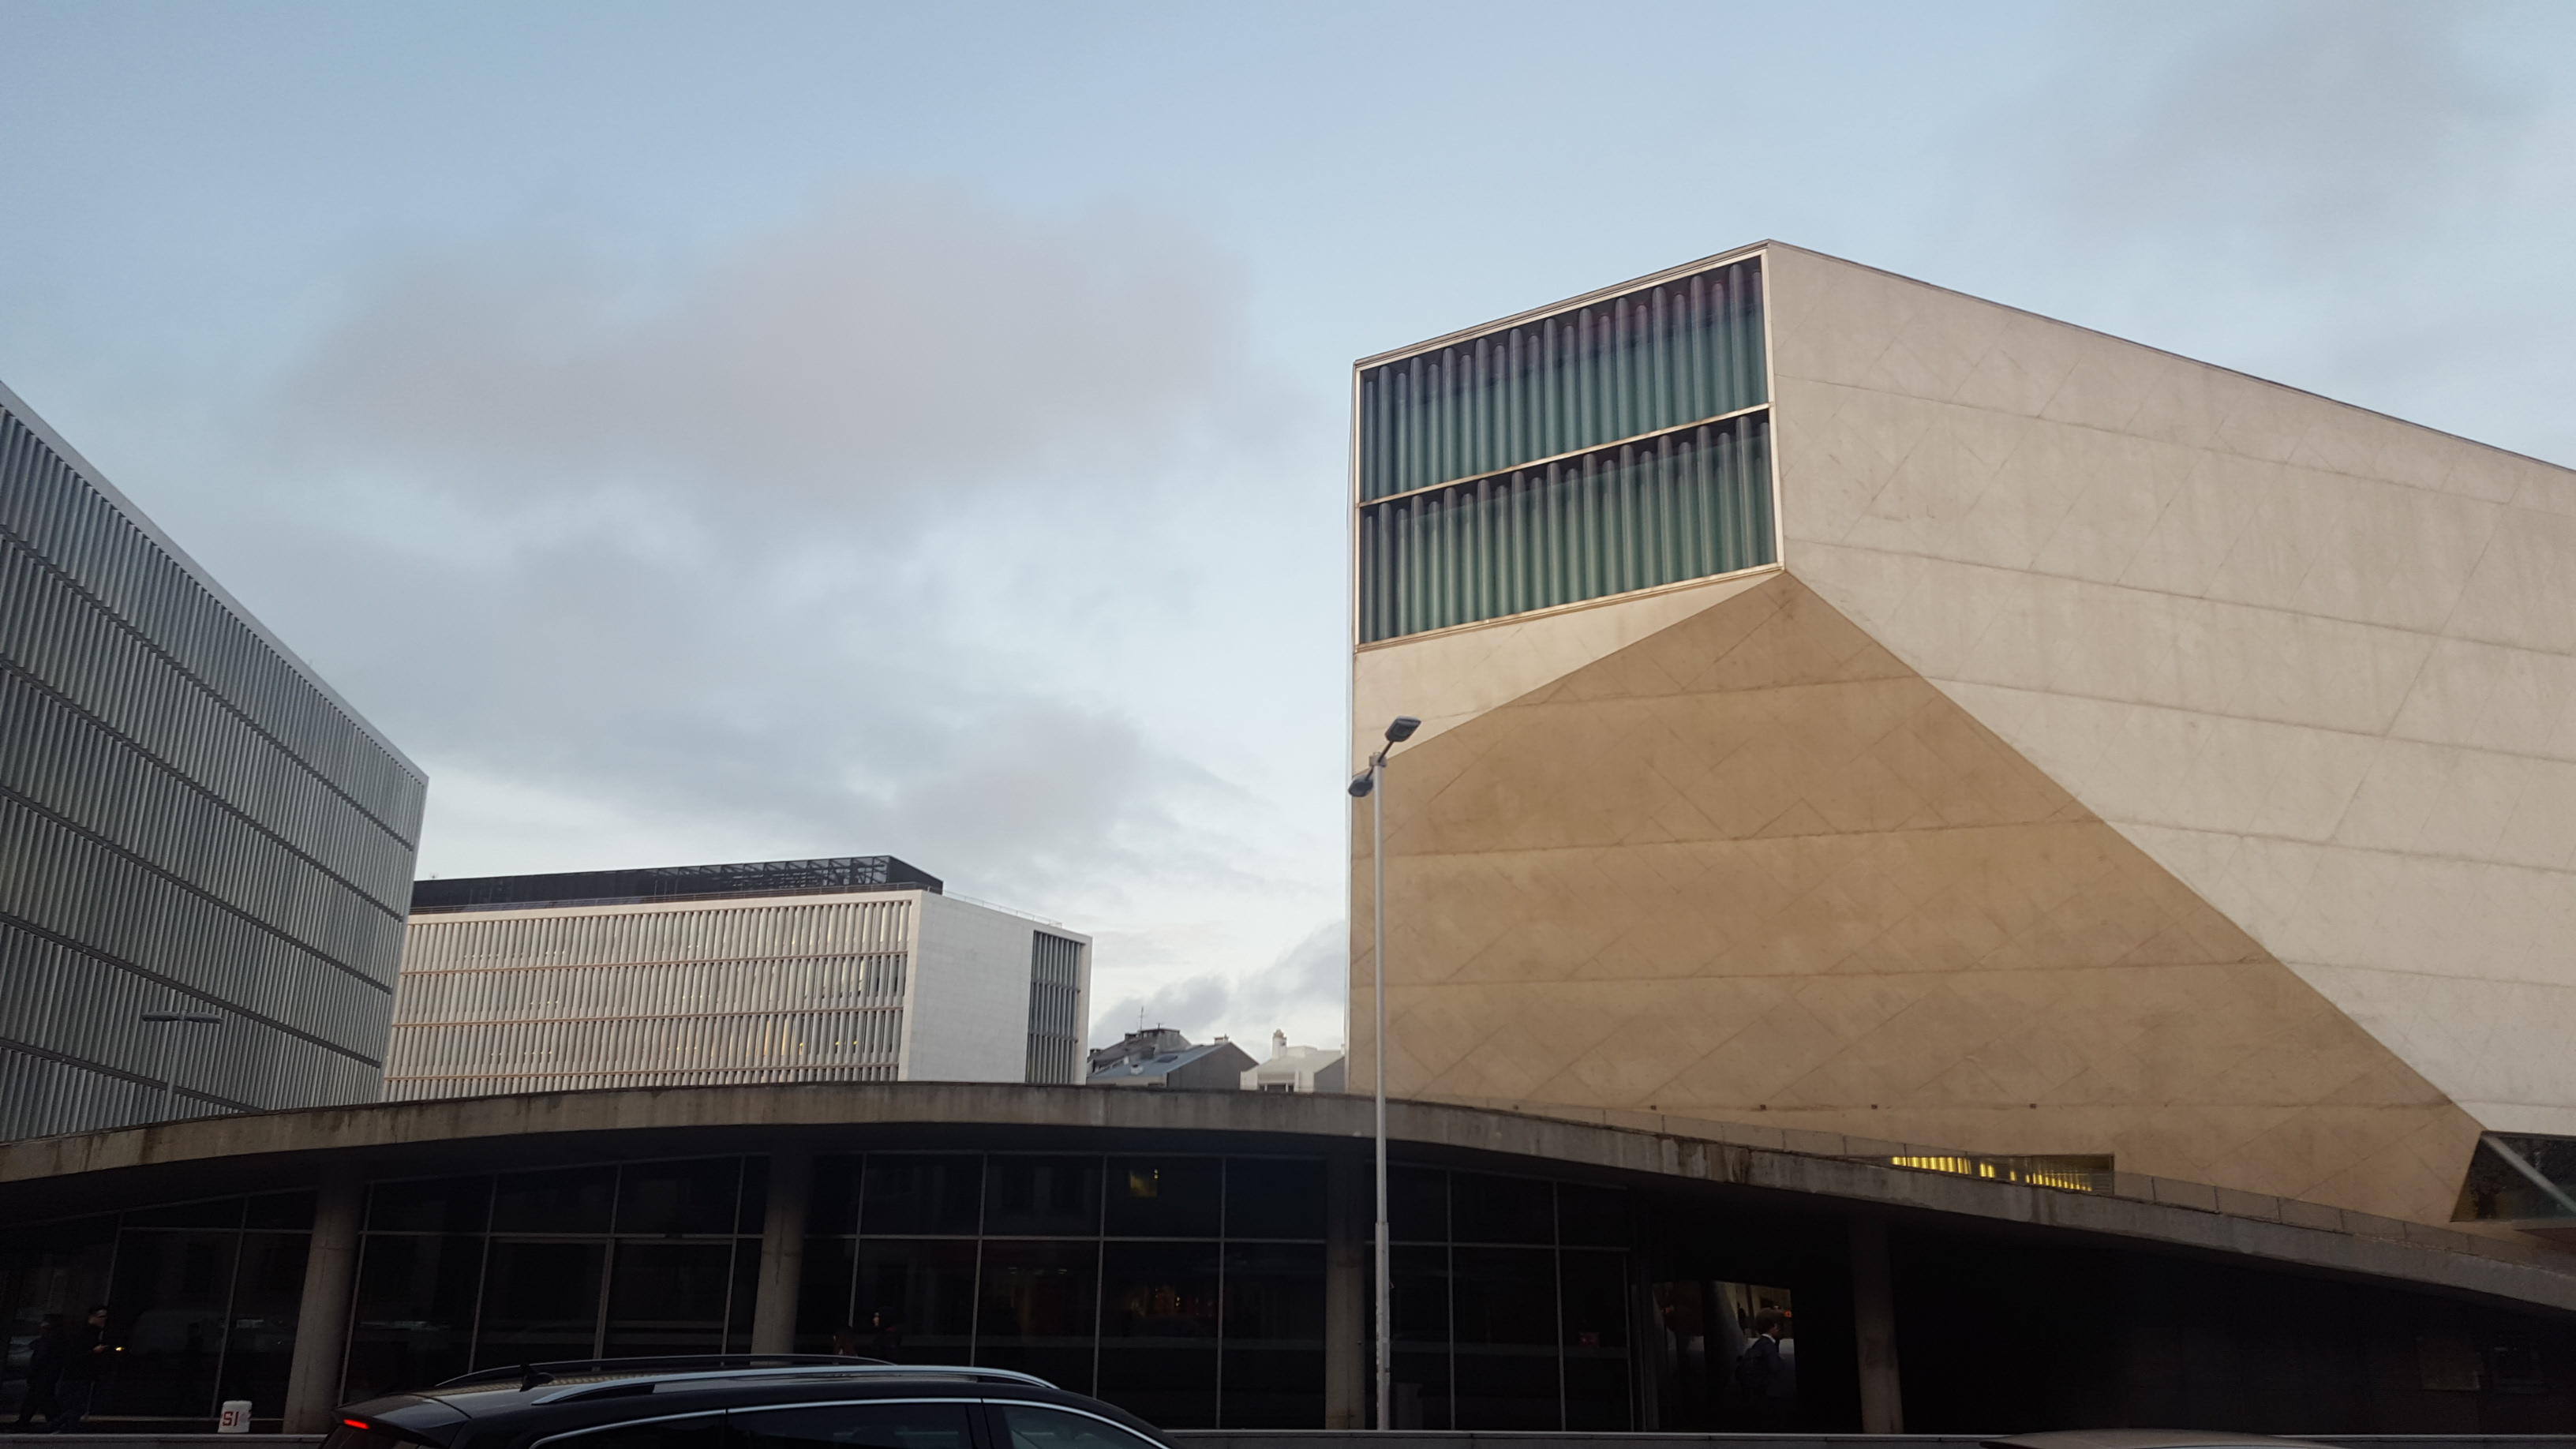musica: (1251, 249, 1325, 998)
